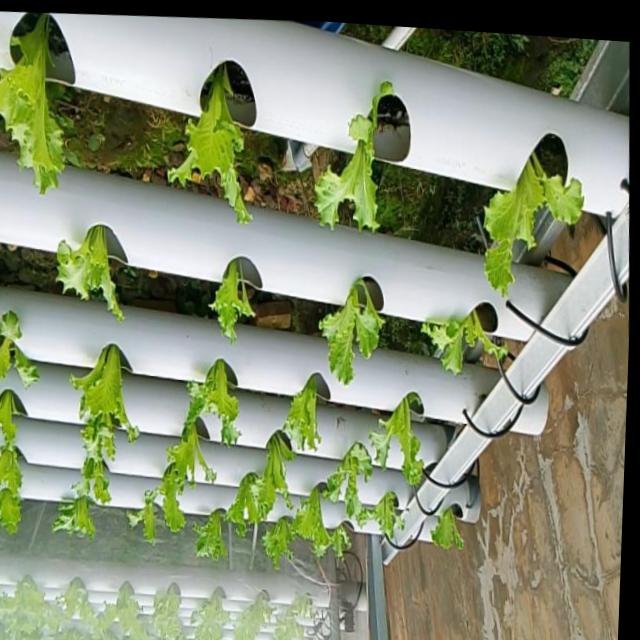Baby: (488, 157, 588, 302), (170, 66, 253, 227), (0, 14, 67, 196), (318, 86, 397, 235), (321, 284, 387, 390), (148, 420, 219, 512), (60, 227, 125, 323), (425, 318, 515, 383), (240, 432, 298, 525), (372, 397, 427, 491), (182, 484, 240, 569), (78, 345, 132, 429), (294, 488, 353, 562), (325, 444, 376, 527), (212, 263, 256, 346), (82, 396, 123, 485), (0, 311, 42, 389), (202, 362, 241, 446), (285, 377, 324, 454), (360, 495, 408, 548), (128, 489, 167, 545), (0, 444, 25, 525), (54, 496, 98, 539), (264, 518, 297, 572), (433, 515, 467, 556)
